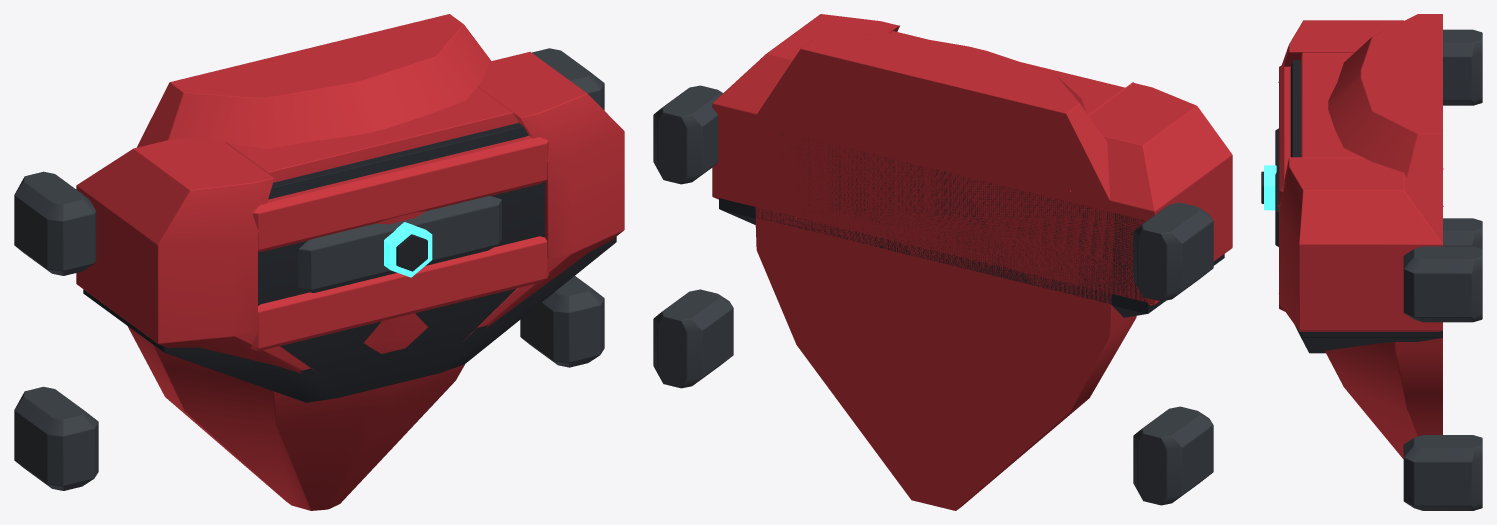
The model's file is LowerArmBack_Set10_Aegis.fbx.
The picture shows the model from 3 angles, left to right: view 1: azimuth 30°, elevation 25°; view 2: azimuth 150°, elevation 25°; view 3: azimuth 270°, elevation 25°; orthographic projection. The views are drawn at different scales.
Visible parts, largest first — view 1: LowerArmBack_Set10_Aegis; view 2: LowerArmBack_Set10_Aegis; view 3: LowerArmBack_Set10_Aegis.
Boxes of the visible parts, x1=… form: LowerArmBack_Set10_Aegis: x1=14, y1=14, x2=624, y2=510; LowerArmBack_Set10_Aegis: x1=653, y1=14, x2=1232, y2=510; LowerArmBack_Set10_Aegis: x1=1261, y1=14, x2=1482, y2=510.
Size of the model in its own units: 0.43 by 0.33 by 0.1682.
